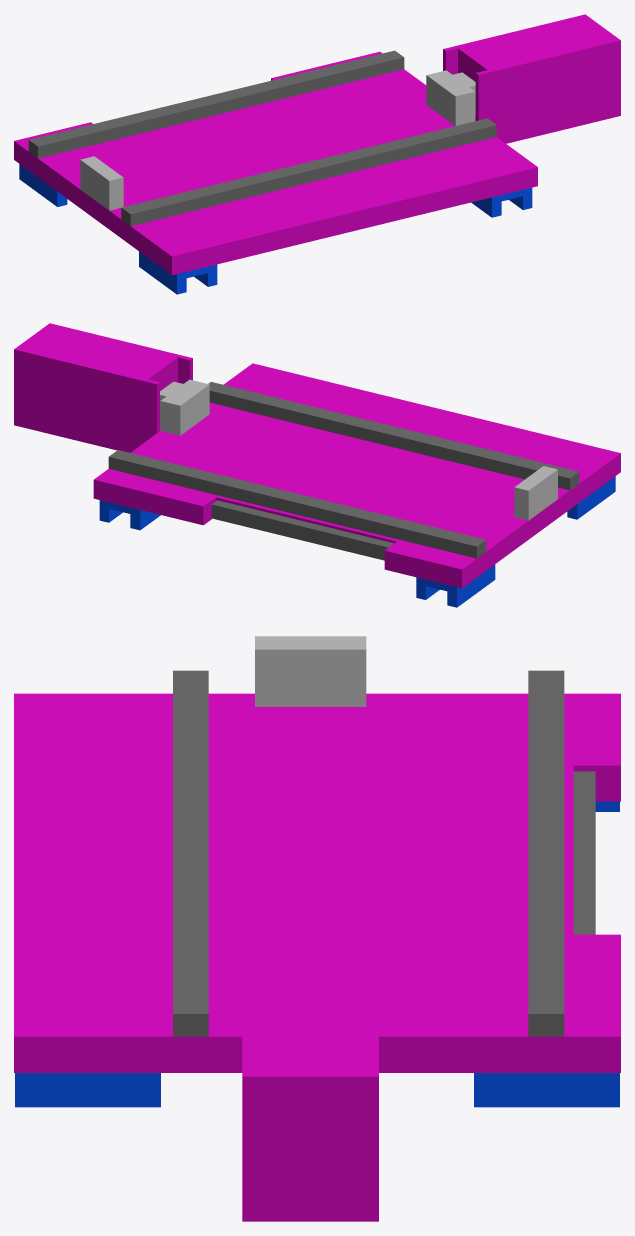
The model's file is palka2m.glb.
3 views of the same model, one above another, from view 1: azimuth 30°, elevation 25°; view 2: azimuth 150°, elevation 25°; view 3: azimuth 270°, elevation 25° (orthographic). The views are drawn at different scales.
Visible parts, largest first — view 1: 04 - 08 - HAREKETL\X2\0130\X0\ PLAKA, 01 - 07 - KAPR\X2\0130\X0\N BA\X2\011E\X0\LANTI - 2, HSV 35 R - RAY, HSV 35 R - RAY001, PLAKA2, HSV 45 R-ARABA001, HSV 45 R-ARABA002, HSV 45 R-ARABA003; view 2: 04 - 08 - HAREKETL\X2\0130\X0\ PLAKA, 01 - 07 - KAPR\X2\0130\X0\N BA\X2\011E\X0\LANTI - 2, HSV 35 R - RAY, HSV 35 R - RAY001, PLAKA2, HSV 30 R - RAY, HSV 45 R-ARABA003, HSV 45 R-ARABA, HSV 45 R-ARABA001; view 3: 04 - 08 - HAREKETL\X2\0130\X0\ PLAKA, 01 - 07 - KAPR\X2\0130\X0\N BA\X2\011E\X0\LANTI - 2, HSV 35 R - RAY, HSV 35 R - RAY001, PLAKA2, HSV 45 R-ARABA, HSV 45 R-ARABA002, HSV 30 R - RAY.
Boxes of the visible parts, bbox=[...] form: 04 - 08 - HAREKETL\X2\0130\X0\ PLAKA: bbox=[14, 51, 537, 275]; 01 - 07 - KAPR\X2\0130\X0\N BA\X2\011E\X0\LANTI - 2: bbox=[443, 14, 620, 143]; HSV 35 R - RAY: bbox=[28, 50, 404, 158]; HSV 35 R - RAY001: bbox=[121, 118, 496, 226]; PLAKA2: bbox=[80, 70, 475, 210]; HSV 45 R-ARABA001: bbox=[139, 251, 217, 294]; HSV 45 R-ARABA002: bbox=[471, 187, 532, 217]; HSV 45 R-ARABA003: bbox=[19, 164, 67, 206]; 04 - 08 - HAREKETL\X2\0130\X0\ PLAKA: bbox=[93, 363, 620, 588]; 01 - 07 - KAPR\X2\0130\X0\N BA\X2\011E\X0\LANTI - 2: bbox=[14, 323, 192, 452]; HSV 35 R - RAY: bbox=[108, 450, 486, 558]; HSV 35 R - RAY001: bbox=[208, 382, 579, 490]; PLAKA2: bbox=[160, 379, 557, 520]; HSV 30 R - RAY: bbox=[211, 500, 394, 560]; HSV 45 R-ARABA003: bbox=[416, 564, 495, 607]; HSV 45 R-ARABA: bbox=[99, 500, 160, 530]; HSV 45 R-ARABA001: bbox=[567, 476, 615, 519]; 04 - 08 - HAREKETL\X2\0130\X0\ PLAKA: bbox=[14, 693, 620, 1072]; 01 - 07 - KAPR\X2\0130\X0\N BA\X2\011E\X0\LANTI - 2: bbox=[242, 943, 378, 1221]; HSV 35 R - RAY: bbox=[528, 670, 564, 1036]; HSV 35 R - RAY001: bbox=[173, 670, 208, 1036]; PLAKA2: bbox=[255, 636, 366, 706]; HSV 45 R-ARABA: bbox=[474, 1073, 619, 1107]; HSV 45 R-ARABA002: bbox=[15, 1073, 160, 1107]; HSV 30 R - RAY: bbox=[573, 771, 595, 934].
Bounding box in the file's own units: 1.07 × 0.1775 × 0.577.
